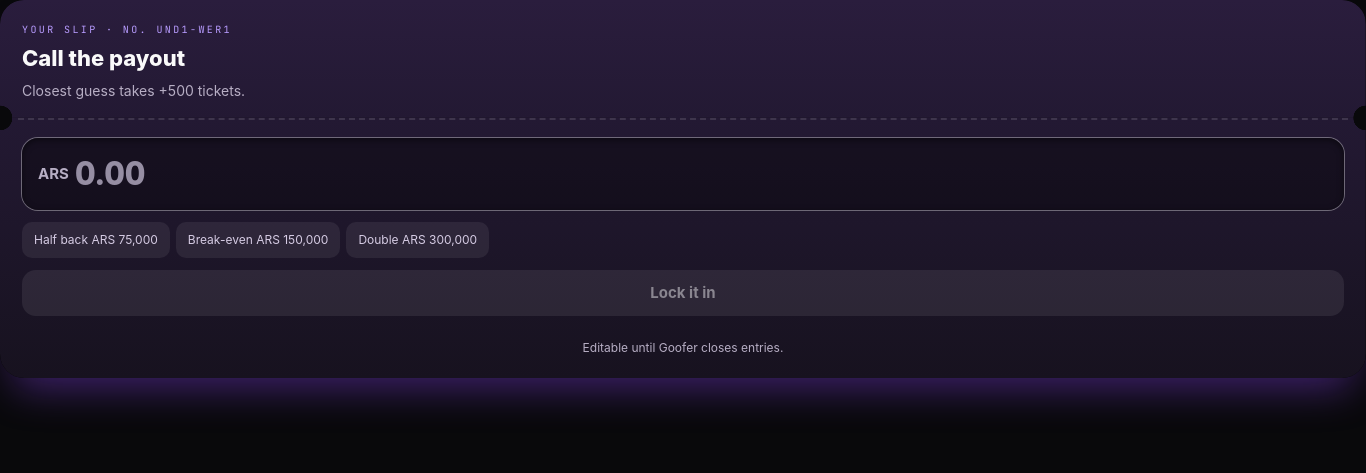
Scenario: the guess is grouped while typing and submits as a plain number
This screenshot has width=1366, height=473.
Type "1850000.5" into the field named "Final payout guess" at (701, 174), box [75,142,1328,206]
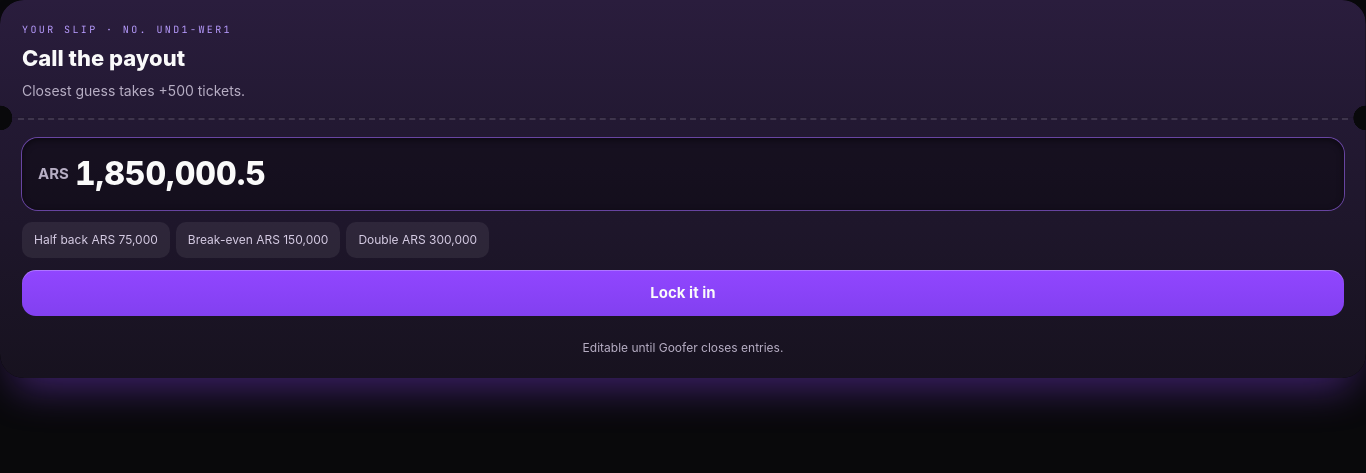
Expected: the text "ARS" is shown, [38,162,69,185]
Expected: the field named "Final payout guess" holds "1,850,000.5", [75,142,1328,206]
Click the button "Lock it in" at (683, 293), box [22,270,1344,316]
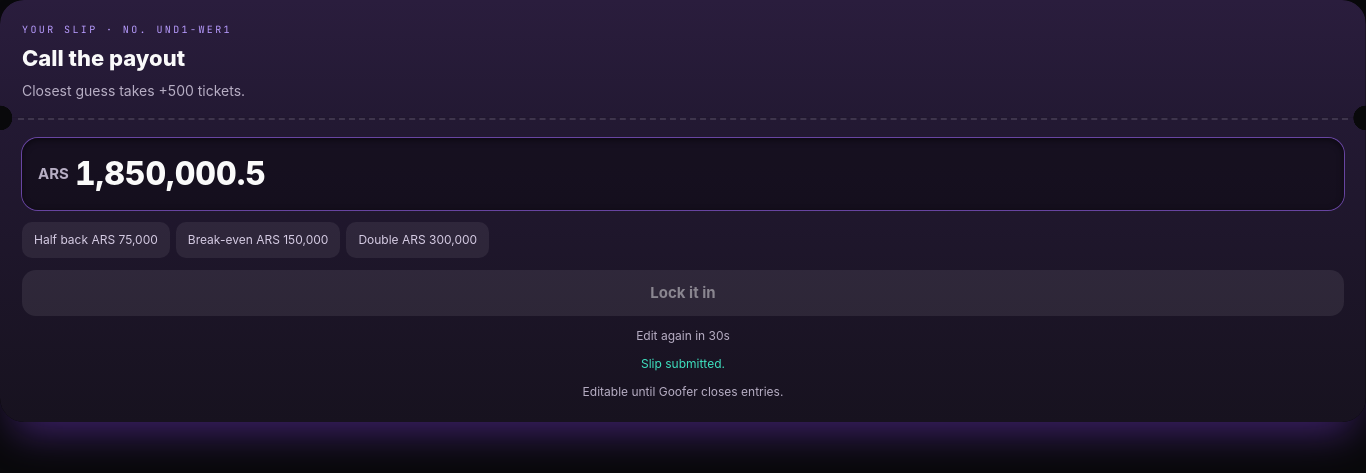
Expected: the text "Slip submitted." is shown, [641,356,725,371]
Expected: the text "Edit again in 30s" is shown, [636,328,730,343]
